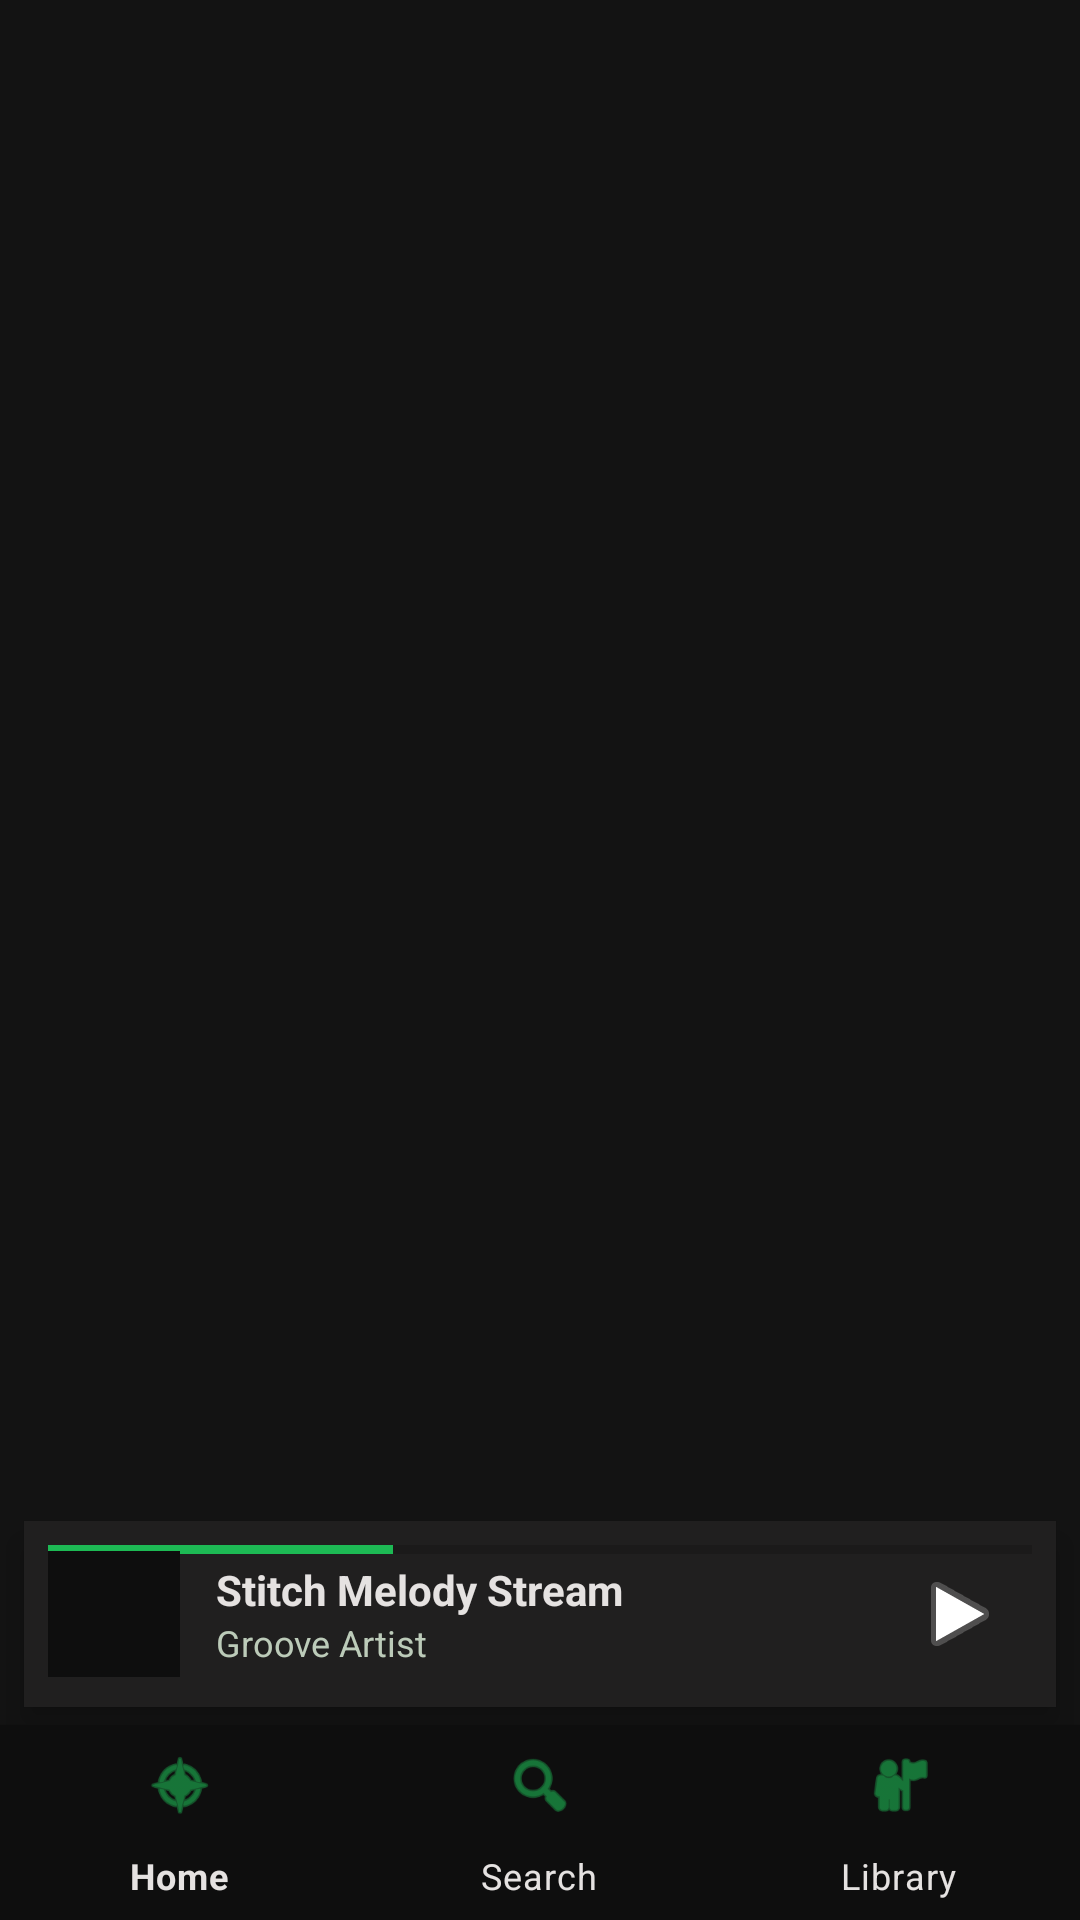

Named icons in this screenshot (1080*1920) and their centers, (x=x, y=y):
Play/Pause: (x=960, y=1614)
